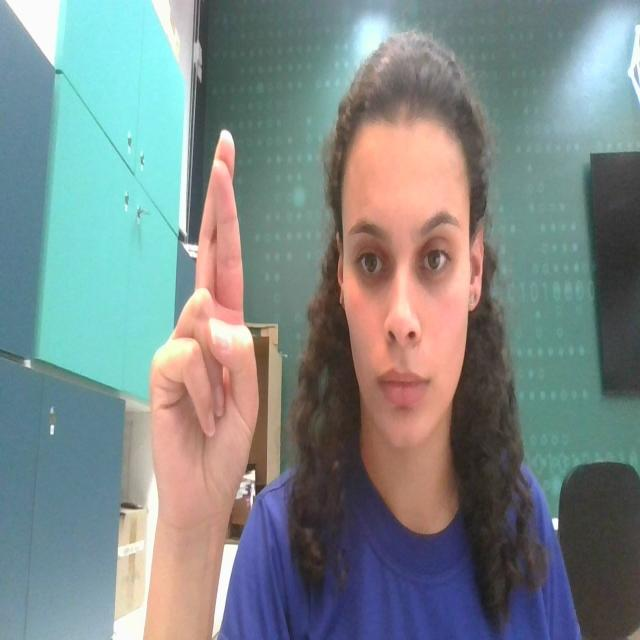R: (142, 118, 268, 538)
